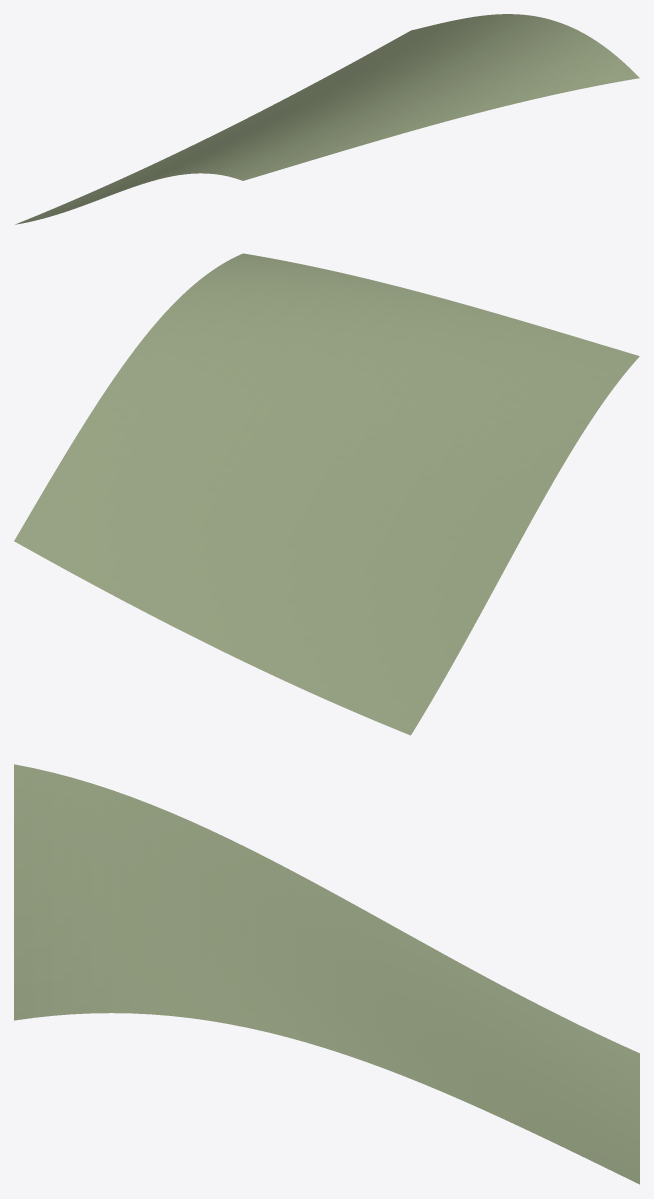
The model's file is expanse-26-28.glb.
3 renders of one model, top to bottom at view 1: azimuth 30°, elevation 25°; view 2: azimuth 150°, elevation 25°; view 3: azimuth 270°, elevation 25°, orthographic. The views are drawn at different scales.
Parts seen in each view (by area): view 1: expanse-26-28; view 2: expanse-26-28; view 3: expanse-26-28.
Boxes of the visible parts, left/top/right/bottom form: expanse-26-28: left=15, top=14, right=639, bottom=224; expanse-26-28: left=14, top=253, right=639, bottom=735; expanse-26-28: left=14, top=764, right=639, bottom=1184.
Bounding box in the file's own units: 256 × 138 × 256.
